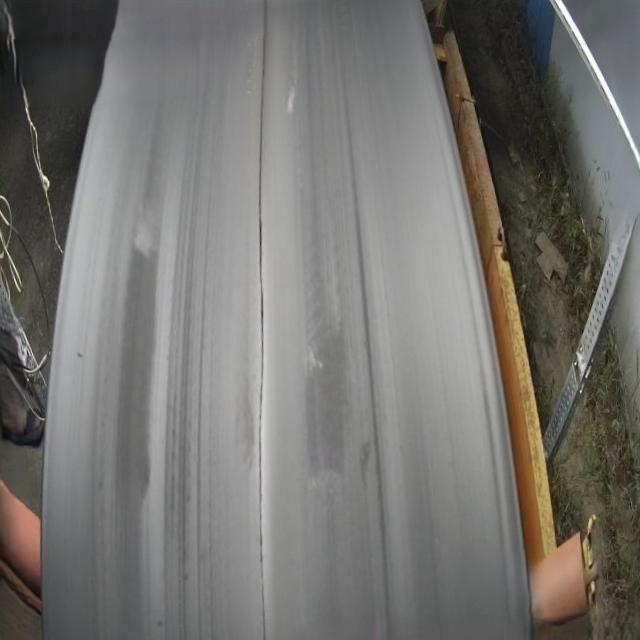Tear: (246, 0, 280, 640)
